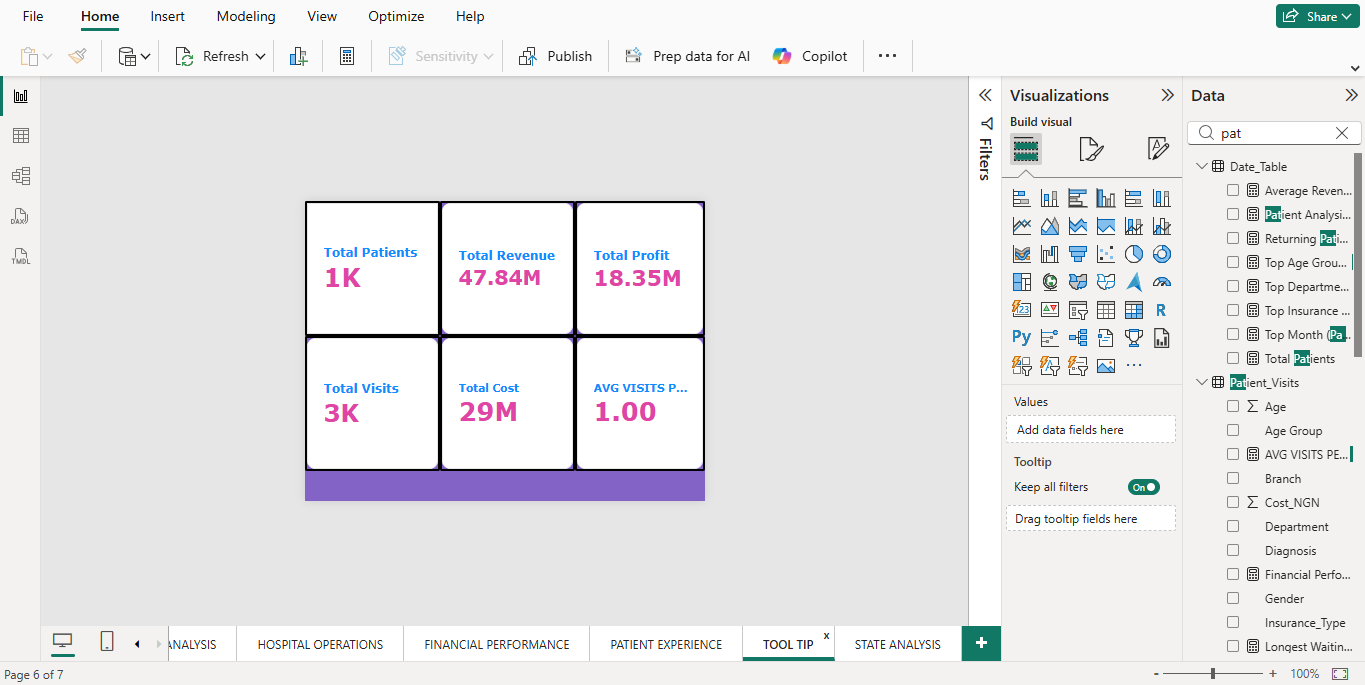

The page's visual inventory and layout, read from the dashboard file:
{"tool":"powerbi","page":{"name":"TOOL TIP ","canvas":[400,300],"ordinal":5},"visuals":[{"type":"cardVisual","fields":{"Data":["Date_Table.Total Patients"]},"box":[0,0,135,135],"z":0},{"type":"cardVisual","fields":{"Data":["Date_Table.Total Visits"]},"box":[0,135,135,135],"z":1000},{"type":"cardVisual","fields":{"Data":["Date_Table.Total Revenue"]},"box":[135,0,135,135],"z":2000},{"type":"cardVisual","fields":{"Data":["Date_Table.Total Cost"]},"box":[135,135,135,135],"z":3000},{"type":"cardVisual","fields":{"Data":["Date_Table.Total Profit"]},"box":[270,0,130,135],"z":4000},{"type":"cardVisual","fields":{"Data":["Patient_Visits.AVG VISITS PER PATIENT"]},"box":[270,135,130,135],"z":5000}]}

Visuals, with their boxes on the page's 400x300 design canvas (x1, y1, x2, y2). These are canvas units, not pixel positions in the 1365x685 screenshot, which may show the page scaled, cropped or inside an application window:
cardVisual - Date_Table.Total Patients: region(0, 0, 135, 135)
cardVisual - Date_Table.Total Visits: region(0, 135, 135, 270)
cardVisual - Date_Table.Total Revenue: region(135, 0, 270, 135)
cardVisual - Date_Table.Total Cost: region(135, 135, 270, 270)
cardVisual - Date_Table.Total Profit: region(270, 0, 400, 135)
cardVisual - Patient_Visits.AVG VISITS PER PATIENT: region(270, 135, 400, 270)
